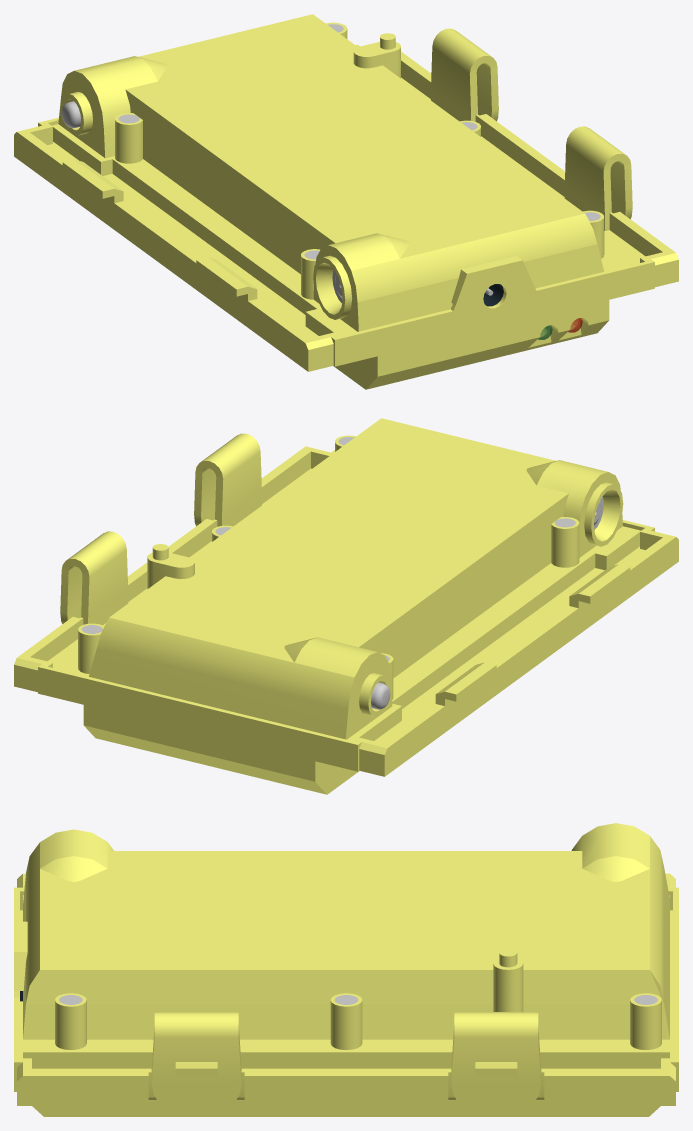
The picture shows the model from 3 angles, top to bottom: view 1: azimuth 30°, elevation 25°; view 2: azimuth 150°, elevation 25°; view 3: azimuth 270°, elevation 25°; orthographic projection. The views are drawn at different scales.
Parts seen in each view (by area): view 1: 11143.dat, 11142.dat; view 2: 11143.dat, 11142.dat; view 3: 11143.dat, 11142.dat.
Boxes of the visible parts, bbox=[...] form: 11143.dat: bbox=[52, 14, 625, 336]; 11142.dat: bbox=[14, 28, 678, 389]; 11143.dat: bbox=[67, 418, 640, 741]; 11142.dat: bbox=[14, 433, 678, 794]; 11143.dat: bbox=[14, 823, 669, 1068]; 11142.dat: bbox=[14, 873, 678, 1116].
Size of the model in its own units: 0.0688 by 0.024 by 0.0888.
